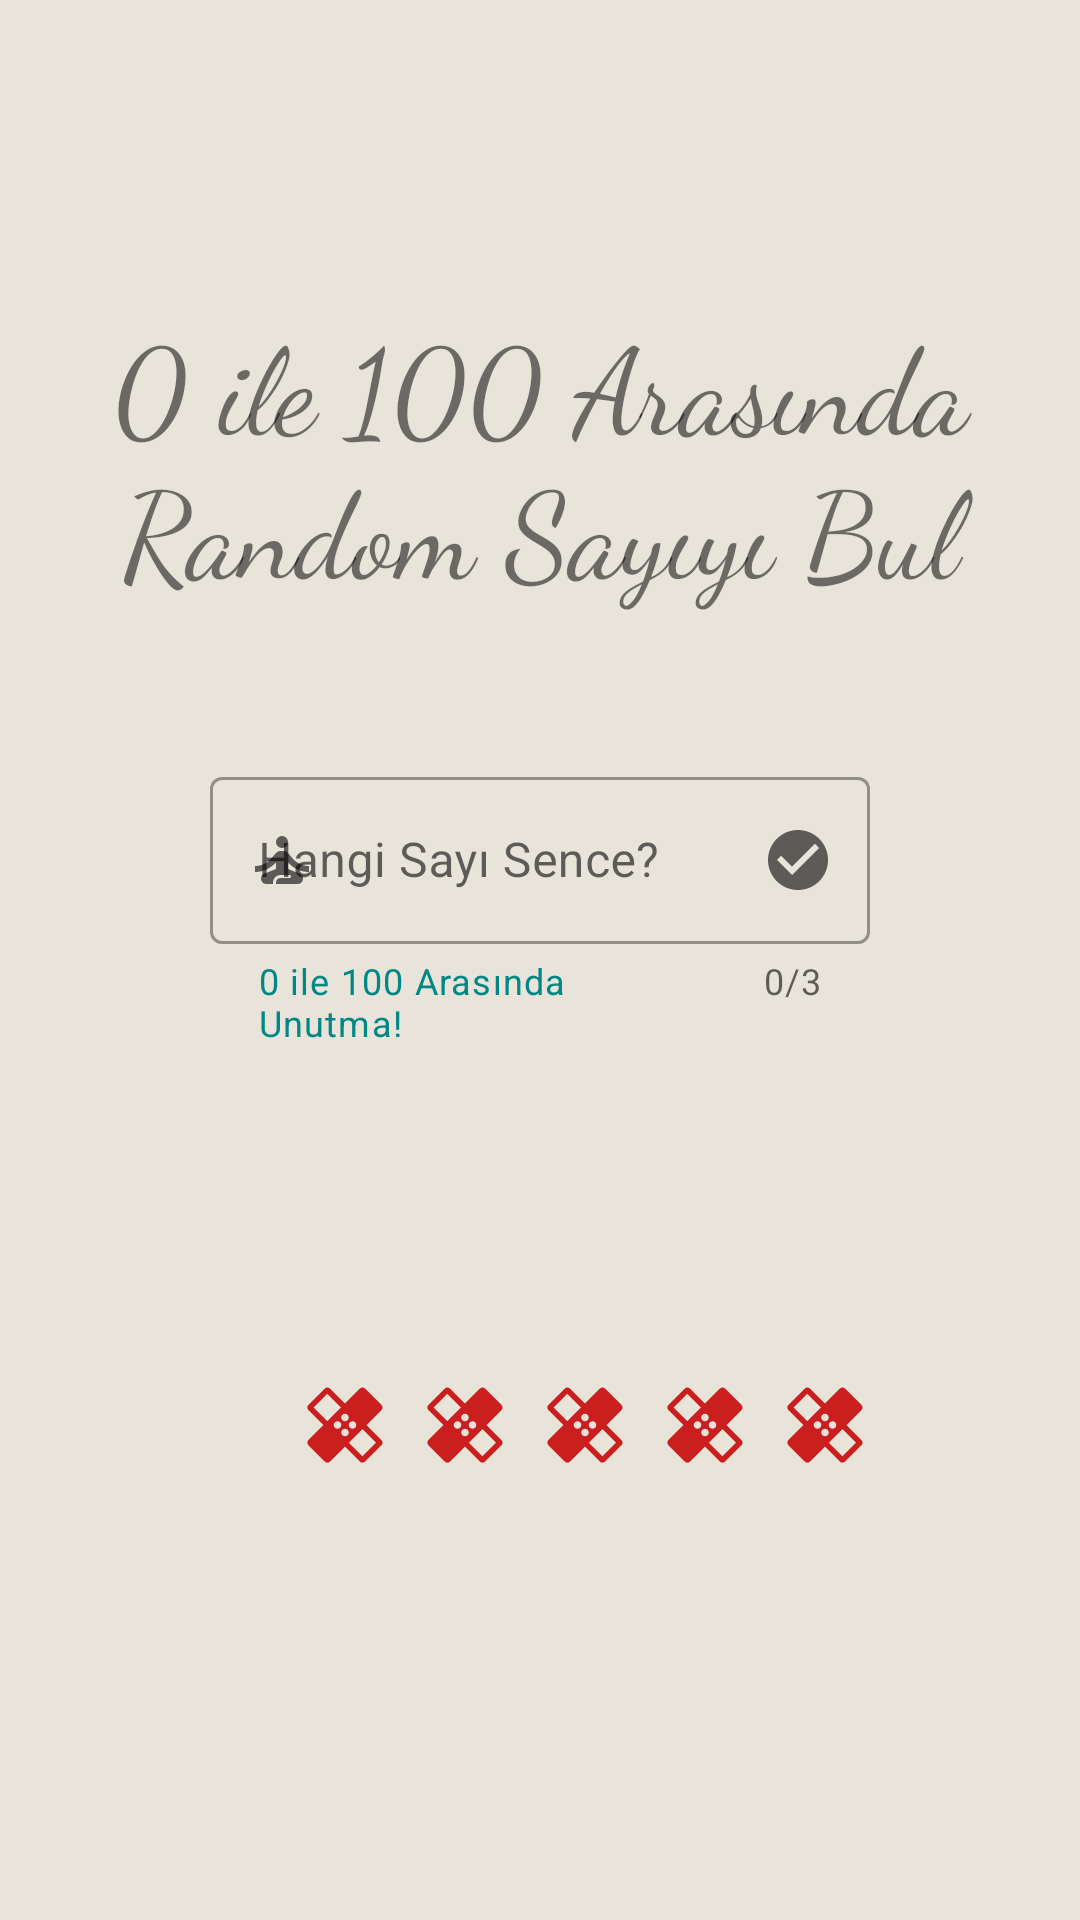

Named icons in this screenshot (1080×1920) and their bounding boxes, (x1=x1, y1=y1, x2=x2, y2=y2):
healing: (x1=307, y1=1387, x2=383, y2=1463), (x1=427, y1=1387, x2=503, y2=1463), (x1=547, y1=1387, x2=623, y2=1463), (x1=667, y1=1387, x2=743, y2=1463), (x1=787, y1=1387, x2=863, y2=1463)
